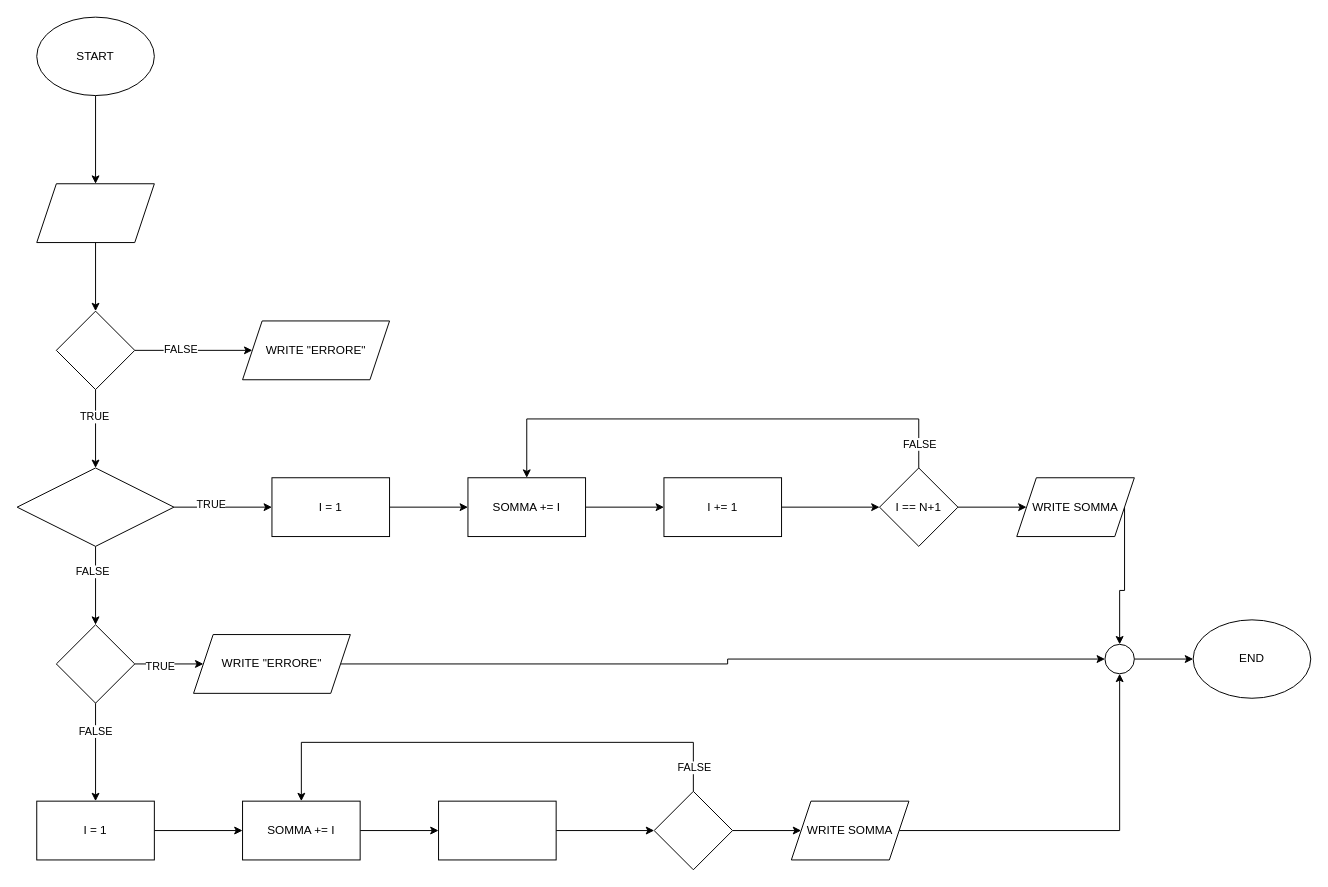
This 1328x887 diagram has some shape labels left out. Each missing label, with the centre of its shape:
I += 2: the point at 497,830
I > N: the point at 693,830
N % 1 == 0: the point at 95,350
N <= 0: the point at 95,663
N >1 AND N < 100: the point at 95,506
READ N: the point at 95,213
